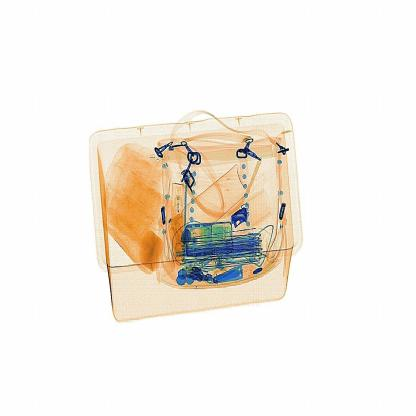knife: (226, 200, 254, 232)
